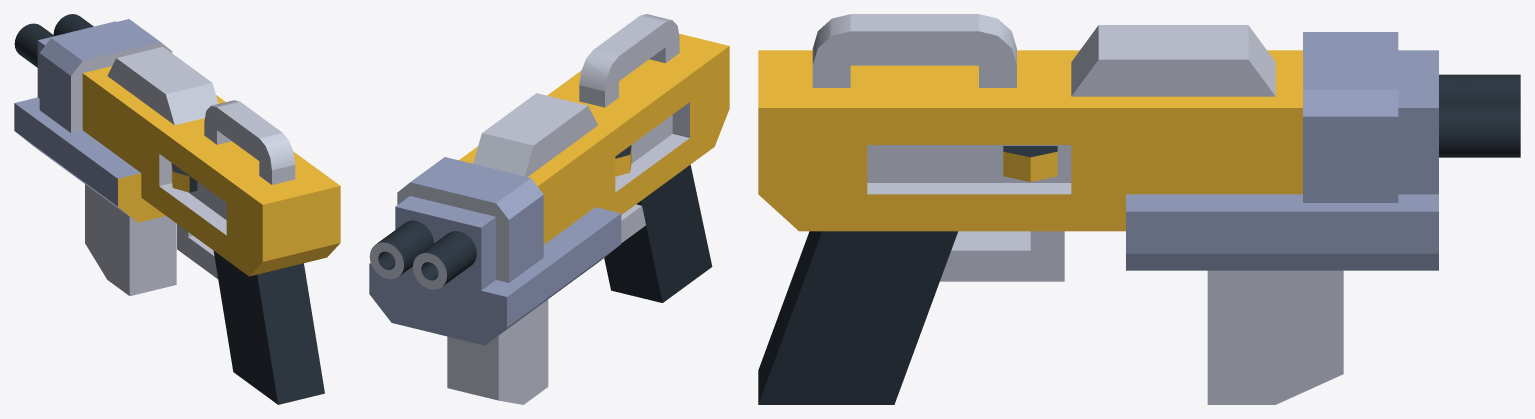
The model's file is blasterJ.obj.
3 views of the same model, side by side, from view 1: azimuth 30°, elevation 25°; view 2: azimuth 150°, elevation 25°; view 3: azimuth 270°, elevation 25° (orthographic). The views are drawn at different scales.
Parts seen in each view (by area): view 1: blasterJ; view 2: blasterJ; view 3: blasterJ.
Boxes of the visible parts, <box> form: blasterJ: <box>14,14,340,404</box>; blasterJ: <box>369,14,729,404</box>; blasterJ: <box>758,14,1520,404</box>.
Size of the model in its own units: 0.16 by 0.2959 by 0.56.
